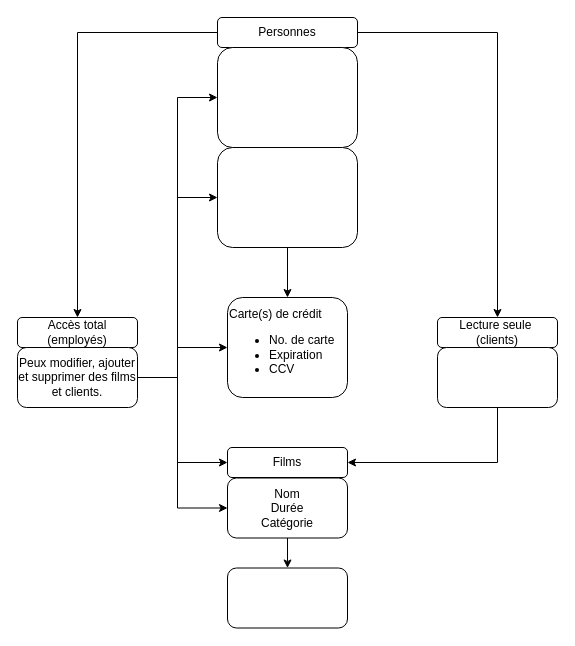
Some shapes in this 575 by 646 pixel diagram are drawn without their labels. The centre of each missing label's shape, as x and y in pixels:
"Facultatif Sexe Date d'inscription Courriel" belongs at [287,197].
"Ne peux pas modifier, ajouter ou supprimer." belongs at [497,377].
"Obligatoire Prénom Nom Courriel" belongs at [287,97].
"Survolé = Voir acteurs principaux" belongs at [287,597].
